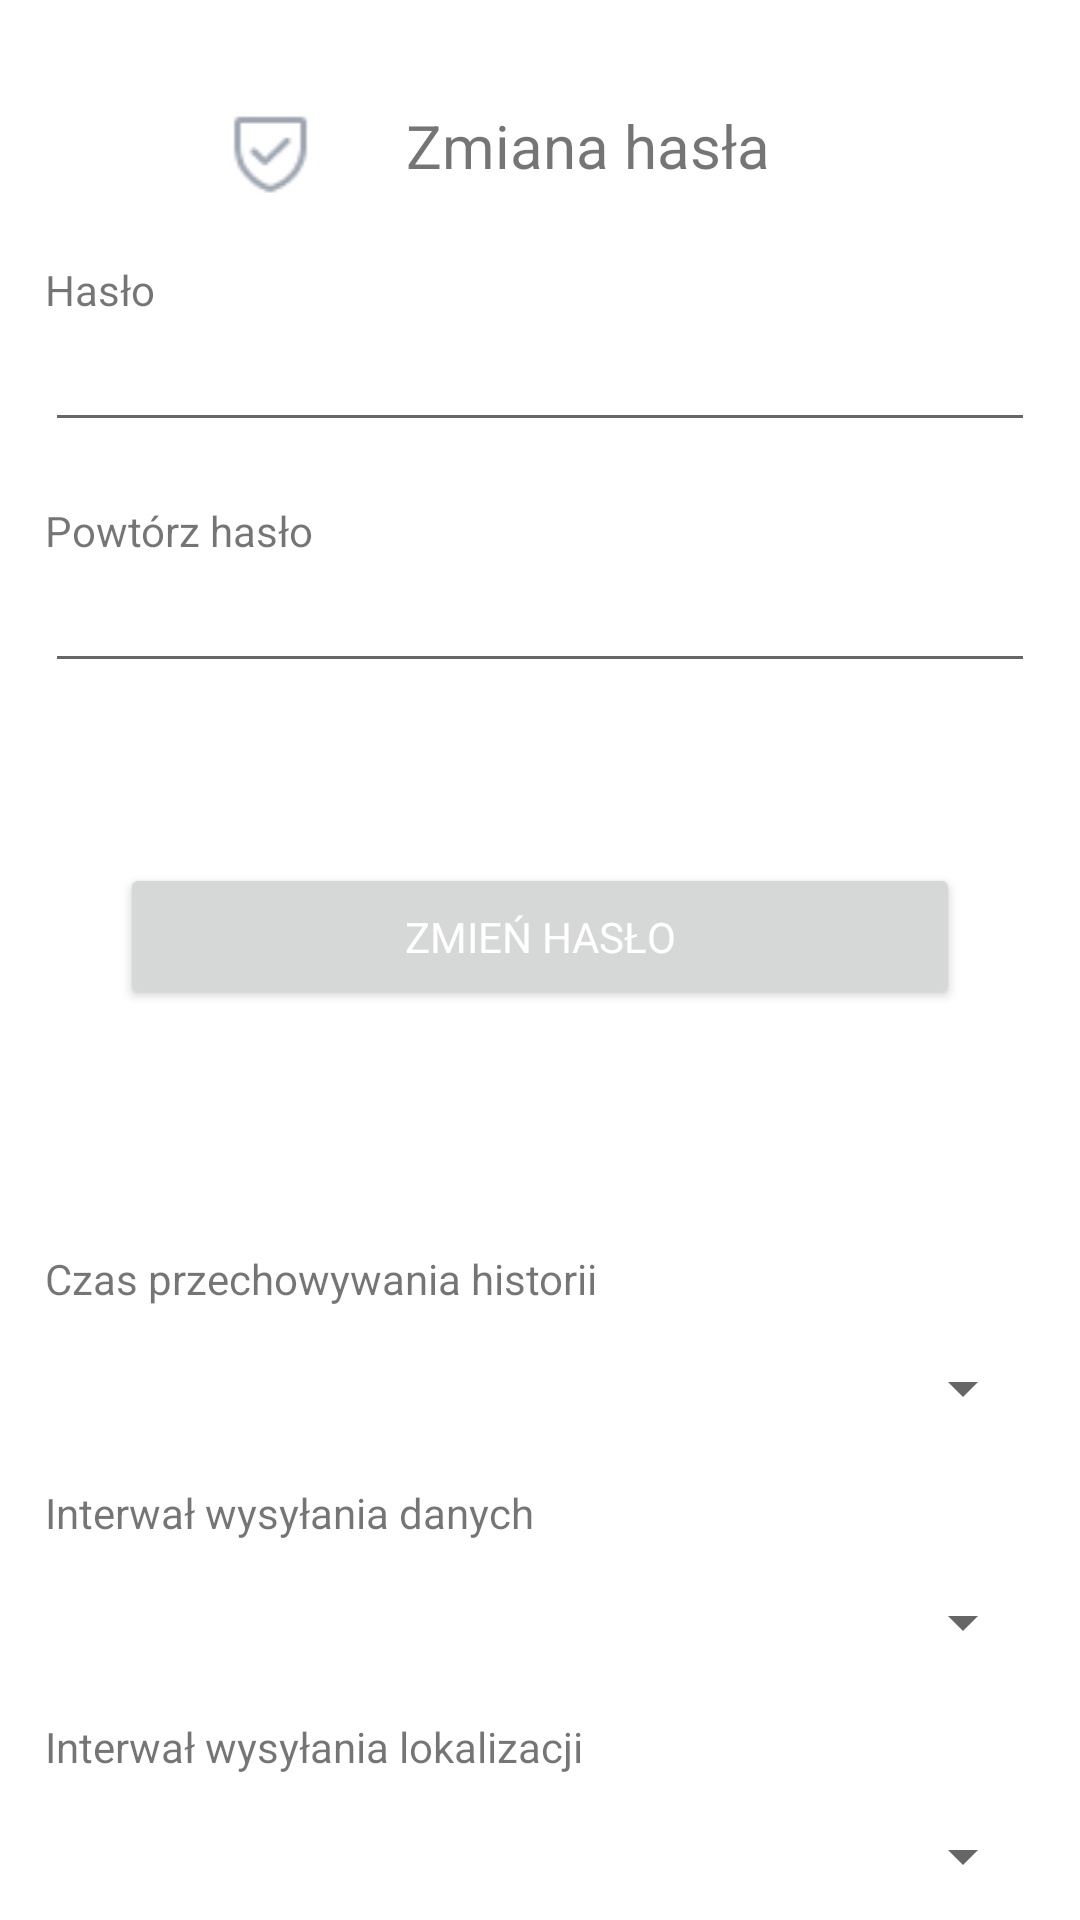

Icons on this 1080 × 1920 Android screen, each with the point to tap as (x,y):
shield check: (270,154)
